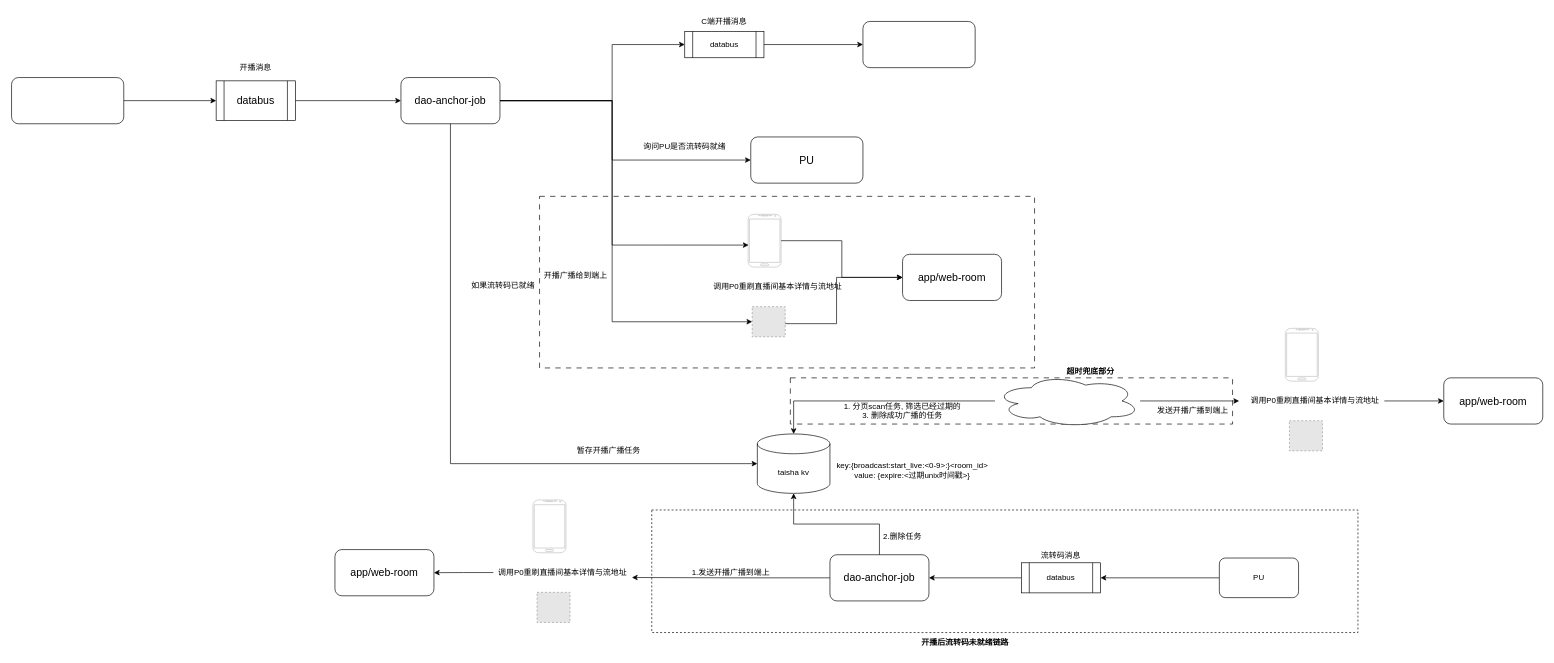
Image size: 1554x663. Some labels were removed from this diagram. Grey dashed boxes stand in for pictures. Each missing label, with the centre of its shape:
"下游各消费方" belongs at (918,44).
"播端服务" belongs at (67,100).
"时间间隔为1s的定时任务" belongs at (1067,400).
